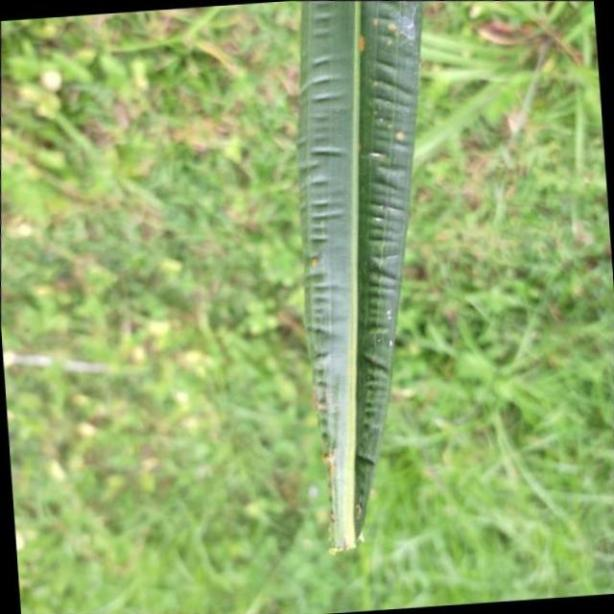Boron: (298, 0, 422, 557)
